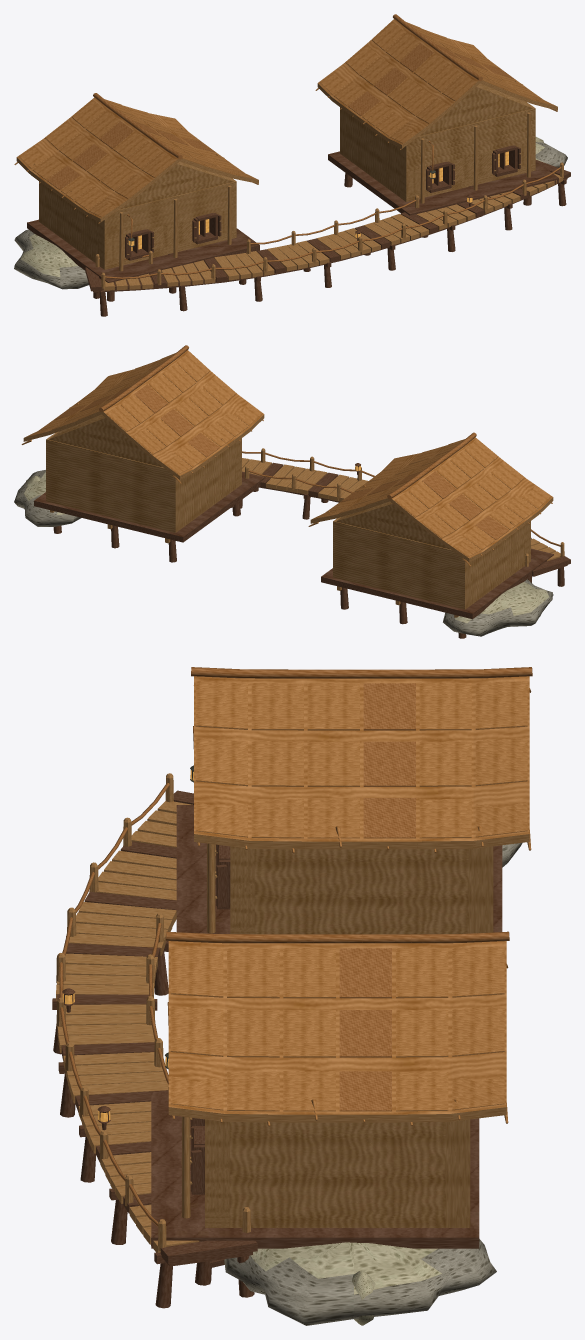
The model's file is lagoon_bungalow_walkway_mid.glb.
3 views of the same model, one above another, from view 1: azimuth 30°, elevation 25°; view 2: azimuth 150°, elevation 25°; view 3: azimuth 270°, elevation 25° (orthographic). The views are drawn at different scales.
Visible parts, largest first — view 1: lagoon_bungalow_walkway_mid; view 2: lagoon_bungalow_walkway_mid; view 3: lagoon_bungalow_walkway_mid.
Boxes of the visible parts, box(x1,y1,x2,y2) form: lagoon_bungalow_walkway_mid: box(14, 14, 570, 316); lagoon_bungalow_walkway_mid: box(14, 345, 570, 638); lagoon_bungalow_walkway_mid: box(52, 667, 532, 1325).
Bounding box in the file's own units: 28 × 7.5 × 11.
Materials: 2 (2 with a texture image).
